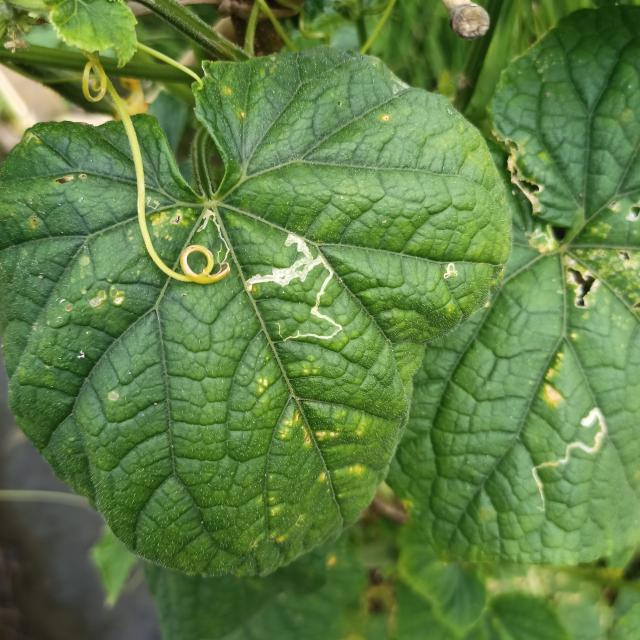disease_cucumber: (256, 377, 340, 450), (149, 208, 189, 242)
